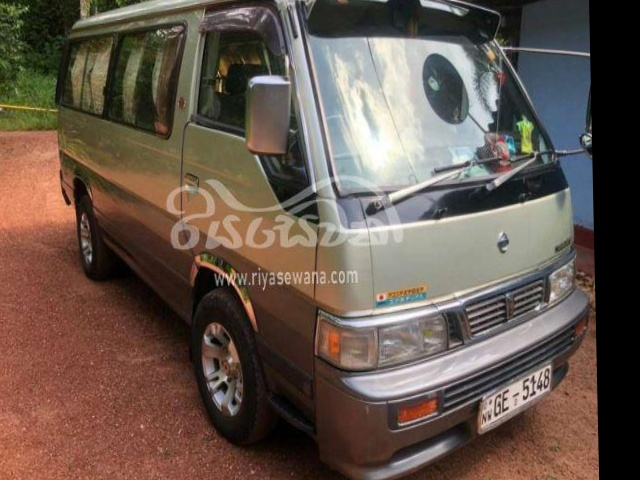van: (47, 0, 593, 463)
